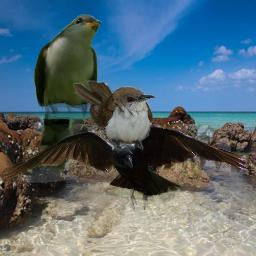Crow: (0, 124, 249, 210)
Cuckoo: (33, 14, 102, 174), (73, 80, 156, 154)
